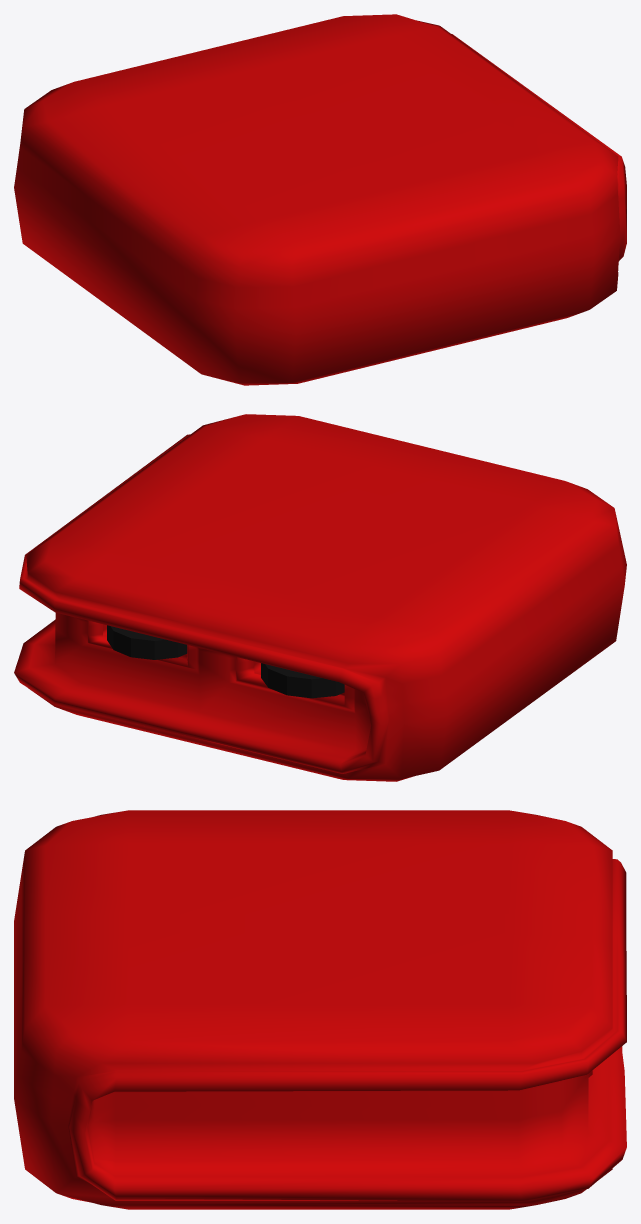
File: Radio_Stern-Club-T110.obj
The picture shows the model from 3 angles, top to bottom: view 1: azimuth 30°, elevation 25°; view 2: azimuth 150°, elevation 25°; view 3: azimuth 270°, elevation 25°; orthographic projection. The views are drawn at different scales.
Parts seen in each view (by area): view 1: Radio_Stern-Club-T110; view 2: Radio_Stern-Club-T110; view 3: Radio_Stern-Club-T110.
Boxes of the visible parts, bbox=[...] form: Radio_Stern-Club-T110: bbox=[14, 14, 626, 385]; Radio_Stern-Club-T110: bbox=[14, 414, 626, 781]; Radio_Stern-Club-T110: bbox=[14, 810, 626, 1209].
Size of the model in its own units: 0.09 by 0.0277 by 0.0894.
